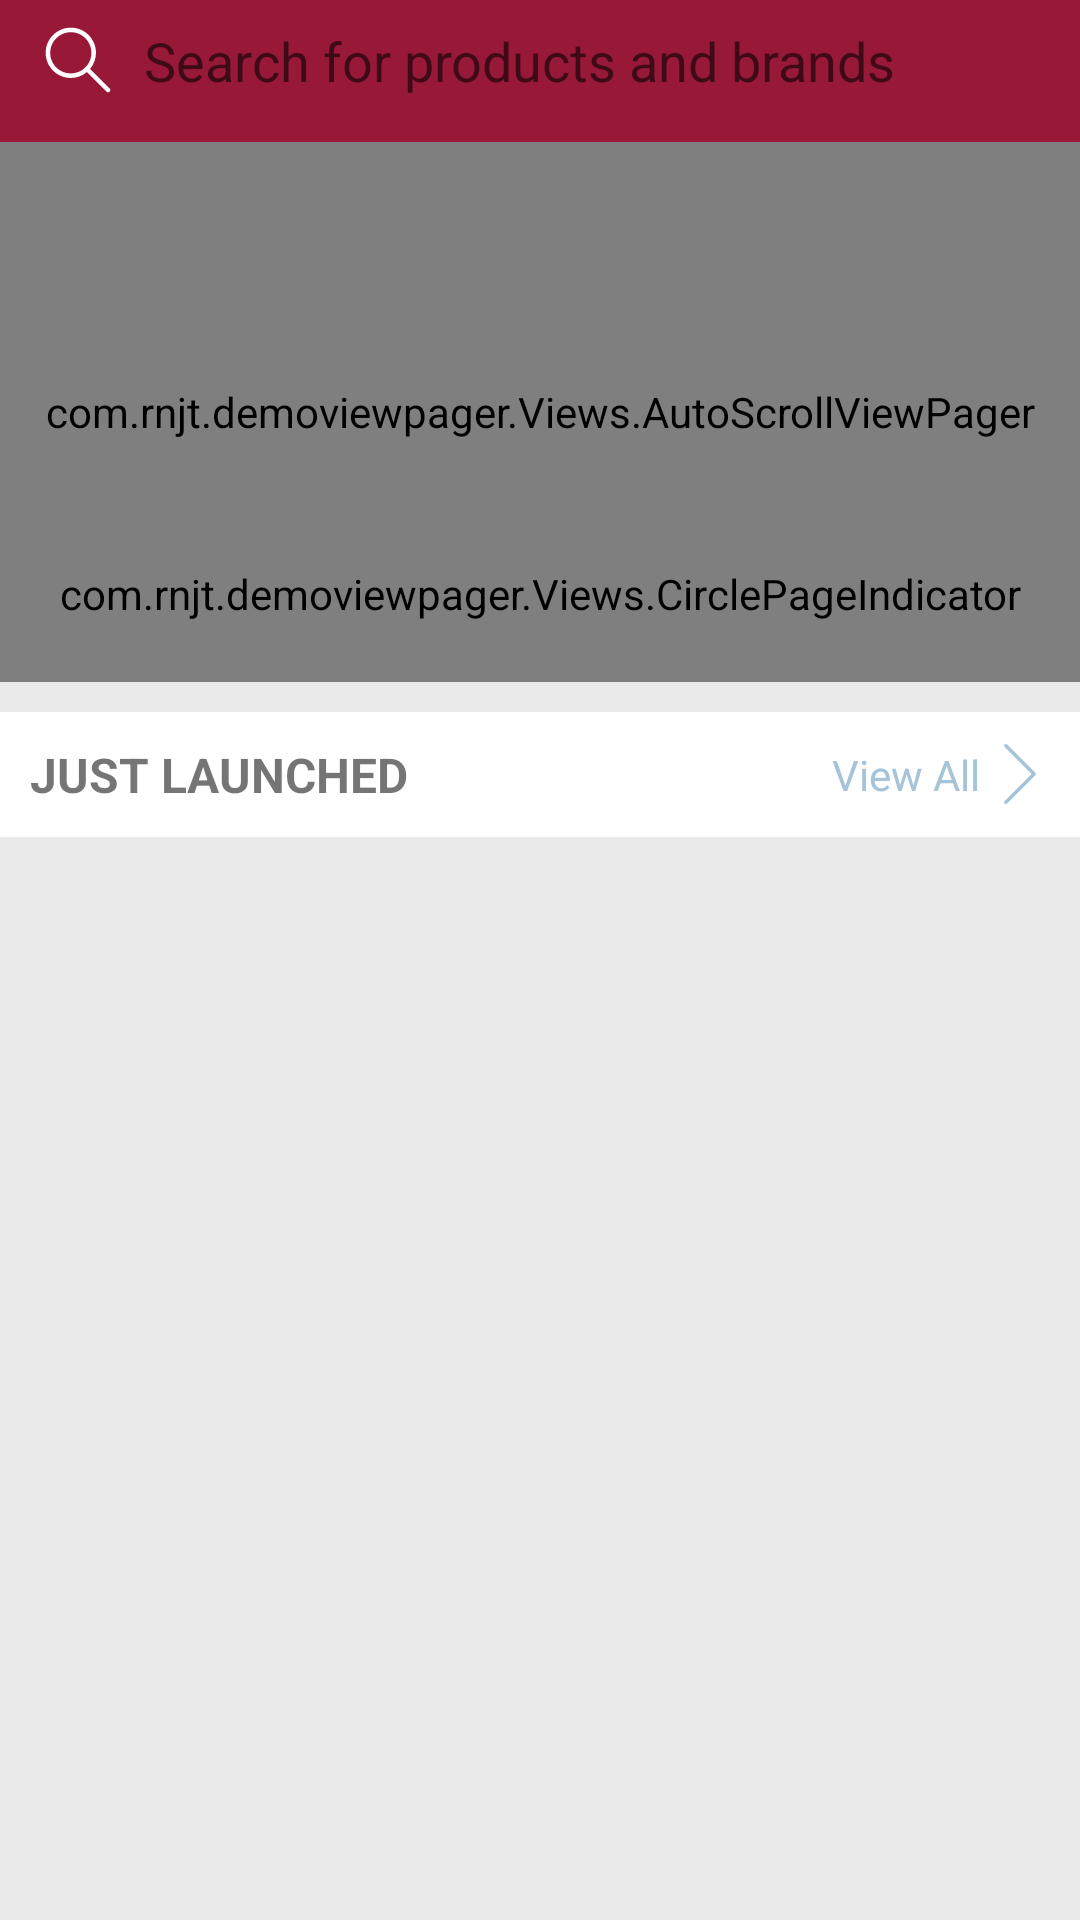

Where icons sit on this 1080 x 1920 app screen, as bbox=(x1, y1, x2, y2):
next: bbox=(1004, 744, 1036, 804)
